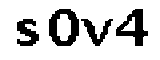0: (45, 3, 80, 48)
4: (114, 7, 149, 51)
s: (12, 17, 40, 48)
v: (80, 16, 113, 48)
